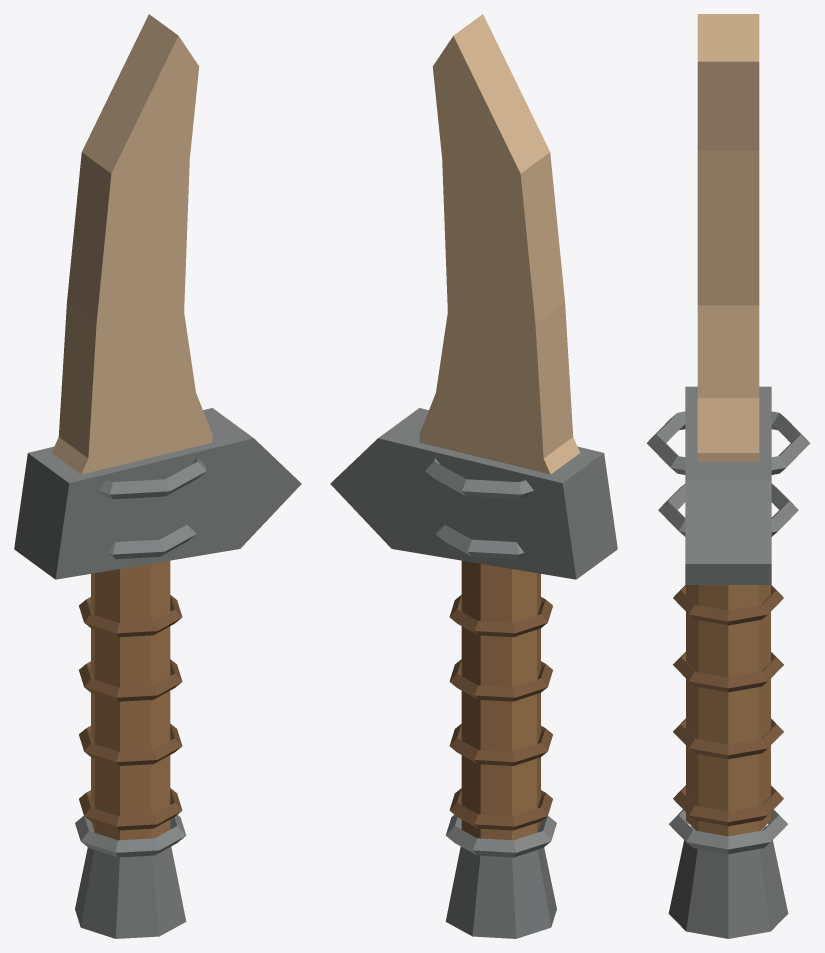
The model's file is t2_skinning_knife.glb.
3 views of the same model, side by side, from view 1: azimuth 30°, elevation 25°; view 2: azimuth 150°, elevation 25°; view 3: azimuth 270°, elevation 25° (orthographic). The views are drawn at different scales.
Parts seen in each view (by area): view 1: CurvedSkinningBlade, BladeGuard, WoodHandle, BottomPommel, PommelBand, GuardRing, LeatherWrap1, LeatherWrap3, LeatherWrap4, LeatherWrap2, BladeCollar; view 2: CurvedSkinningBlade, BladeGuard, WoodHandle, BottomPommel, PommelBand, GuardRing, LeatherWrap1, LeatherWrap3, LeatherWrap4, LeatherWrap2, BladeCollar; view 3: CurvedSkinningBlade, WoodHandle, BladeGuard, BottomPommel, GuardRing, PommelBand, LeatherWrap1, LeatherWrap2, LeatherWrap3, LeatherWrap4, BladeCollar.
Part boxes in pixels (box(x1,y1,x2,y2)): CurvedSkinningBlade: box(51, 14, 212, 474); BladeGuard: box(14, 408, 301, 579); WoodHandle: box(91, 560, 170, 840); BottomPommel: box(75, 846, 186, 938); PommelBand: box(75, 815, 186, 857); GuardRing: box(98, 458, 206, 499); LeatherWrap1: box(79, 788, 182, 830); LeatherWrap3: box(79, 659, 182, 701); LeatherWrap4: box(79, 595, 182, 637); LeatherWrap2: box(79, 724, 182, 765); BladeCollar: box(107, 525, 195, 559); CurvedSkinningBlade: box(419, 14, 580, 474); BladeGuard: box(330, 408, 617, 579); WoodHandle: box(461, 560, 540, 840); BottomPommel: box(445, 846, 556, 938); PommelBand: box(445, 815, 556, 857); GuardRing: box(425, 458, 533, 499); LeatherWrap1: box(449, 788, 552, 830); LeatherWrap3: box(449, 659, 552, 701); LeatherWrap4: box(449, 595, 552, 637); LeatherWrap2: box(449, 724, 552, 765); BladeCollar: box(436, 525, 524, 559); CurvedSkinningBlade: box(697, 14, 759, 462); WoodHandle: box(686, 585, 770, 836); BladeGuard: box(685, 386, 771, 584); BottomPommel: box(668, 826, 788, 938); GuardRing: box(646, 411, 810, 474); PommelBand: box(669, 809, 787, 854); LeatherWrap1: box(673, 785, 783, 826); LeatherWrap2: box(673, 718, 783, 759); LeatherWrap3: box(673, 652, 783, 692); LeatherWrap4: box(673, 585, 783, 625); BladeCollar: box(658, 483, 798, 536).
Size of the model in its own units: 0.36 by 1.23 by 0.2.
